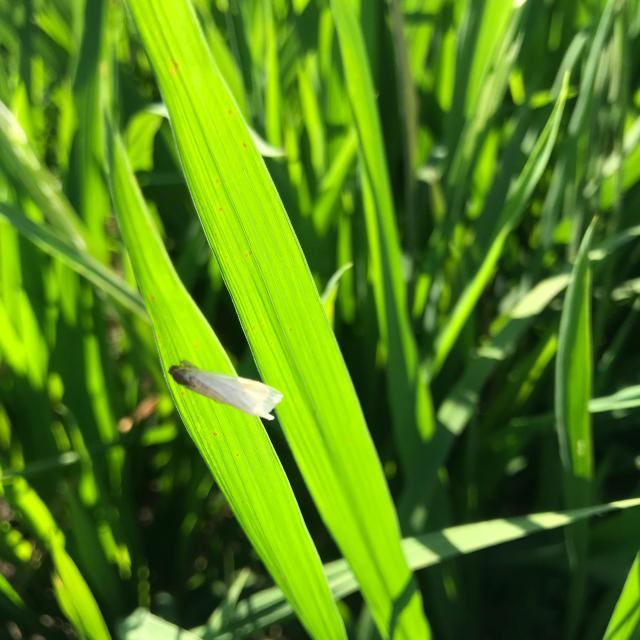wereng pada daun padi: (166, 358, 284, 423)
